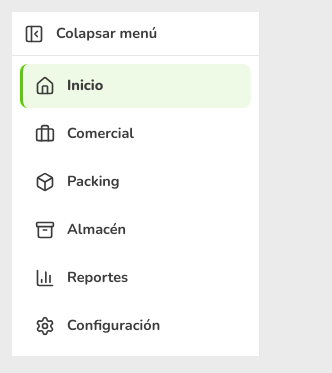
Test: Sidebar › H2-E3: con el menú colapsado, enfocar un icono muestra su nombre en un tooltip
Step 1. Click the button "Colapsar menú" → [136, 34], box [12,12,259,56]
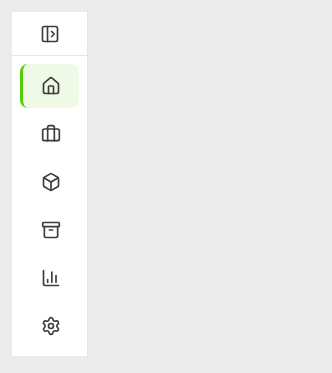
Step 2. Focus the 1st link named "Inicio" → [50, 86], box [20,64,79,108]
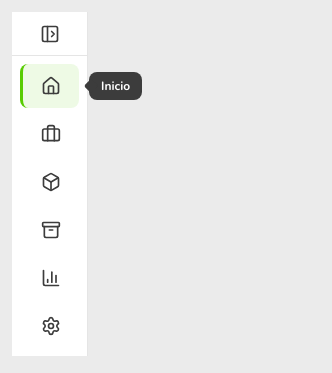
Expected: the tooltip reads "Inicio", [101,78,130,94]
